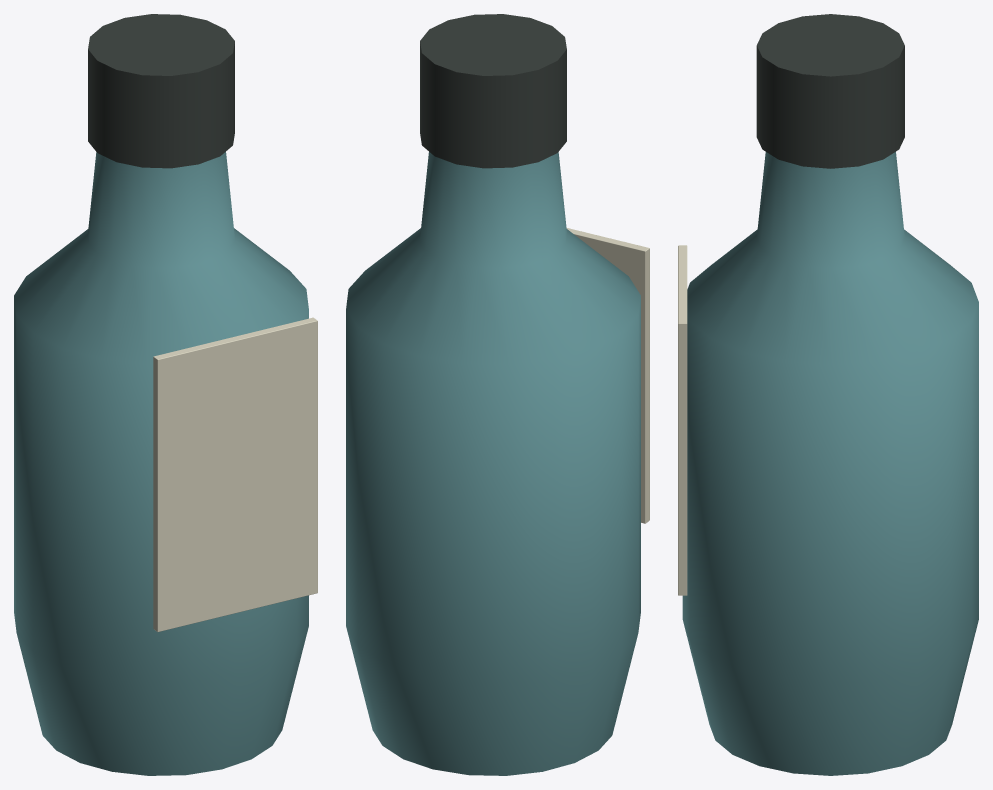
The model's file is field-medicine-and-recovery-saline-bottle-1705c0c6__3055.glb.
3 renders of one model, left to right at view 1: azimuth 30°, elevation 25°; view 2: azimuth 150°, elevation 25°; view 3: azimuth 270°, elevation 25°, orthographic.
Parts seen in each view (by area): view 1: saline-bottle; view 2: saline-bottle; view 3: saline-bottle.
Boxes of the visible parts, box(x1,y1,x2,y2) form: saline-bottle: box(14, 14, 317, 775); saline-bottle: box(346, 14, 649, 775); saline-bottle: box(678, 14, 978, 775).
Bounding box in the file's own units: 0.064 × 0.162 × 0.065.
